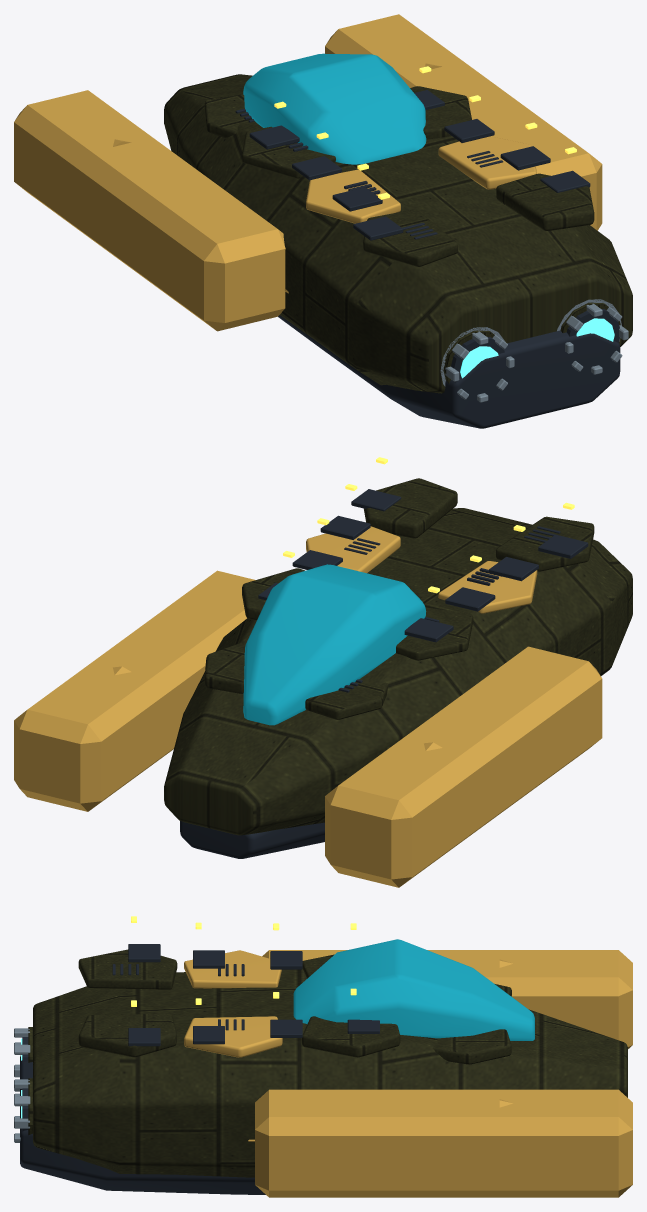
File: bedrock.glb
3 views of the same model, one above another, from view 1: azimuth 30°, elevation 25°; view 2: azimuth 150°, elevation 25°; view 3: azimuth 270°, elevation 25° (orthographic). The views are drawn at different scales.
Parts seen in each view (by area): view 1: Gôndola do motor.007 · exportação, Colar da turbina.022 · exportação, Bocal do motor.007 · exportação, Cabine panorâmica.003 · exportação, Aleta do bocal.063 · exportação, Núcleo propulsor.007 · exportação; view 2: Colar da turbina.022 · exportação, Gôndola do motor.007 · exportação, Cabine panorâmica.003 · exportação, Bocal do motor.007 · exportação; view 3: Gôndola do motor.007 · exportação, Colar da turbina.022 · exportação, Cabine panorâmica.003 · exportação, Bocal do motor.007 · exportação, Aleta do bocal.063 · exportação.
Boxes of the visible parts, x1,y1,x2,y2 form: Gôndola do motor.007 · exportação: (164, 74, 632, 393); Colar da turbina.022 · exportação: (14, 14, 602, 331); Bocal do motor.007 · exportação: (235, 90, 620, 428); Cabine panorâmica.003 · exportação: (243, 53, 426, 164); Aleta do bocal.063 · exportação: (440, 299, 628, 402); Núcleo propulsor.007 · exportação: (460, 318, 614, 378); Colar da turbina.022 · exportação: (14, 526, 602, 887); Gôndola do motor.007 · exportação: (164, 478, 632, 835); Cabine panorâmica.003 · exportação: (243, 564, 426, 725); Bocal do motor.007 · exportação: (180, 489, 588, 858); Gôndola do motor.007 · exportação: (28, 949, 627, 1177); Colar da turbina.022 · exportação: (184, 950, 632, 1197); Cabine panorâmica.003 · exportação: (293, 939, 534, 1040); Bocal do motor.007 · exportação: (20, 944, 379, 1194); Aleta do bocal.063 · exportação: (14, 1028, 30, 1142).
Bounding box in the file's own units: 32.8 × 17.98 × 47.93.
7 materials, 1 textured.
